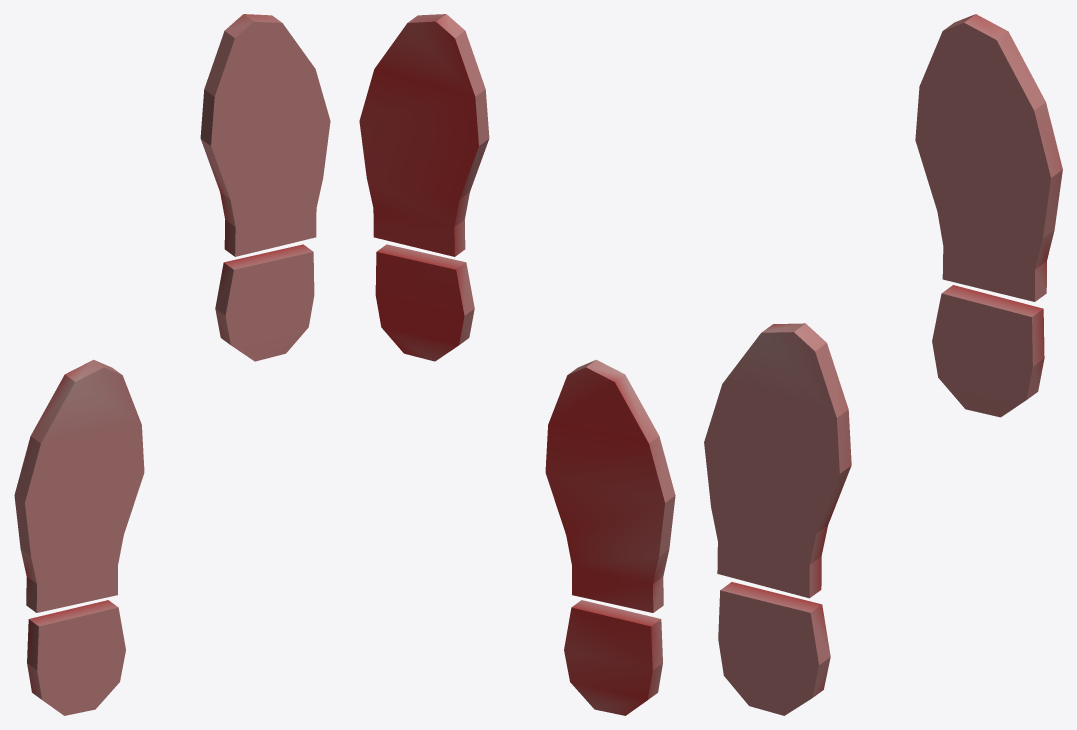
Rendered from FireStepRelic.fbx.
3 renders of one model, left to right at view 1: azimuth 30°, elevation 25°; view 2: azimuth 150°, elevation 25°; view 3: azimuth 330°, elevation 25°, orthographic. The views are drawn at different scales.
Parts seen in each view (by area): view 1: Pegadas; view 2: Pegadas; view 3: Pegadas.
Boxes of the visible parts, bbox=[...] form: Pegadas: bbox=[14, 14, 330, 715]; Pegadas: bbox=[359, 14, 675, 715]; Pegadas: bbox=[704, 14, 1062, 715].
Size of the model in its own units: 0.533 by 1.08 by 0.0315.
